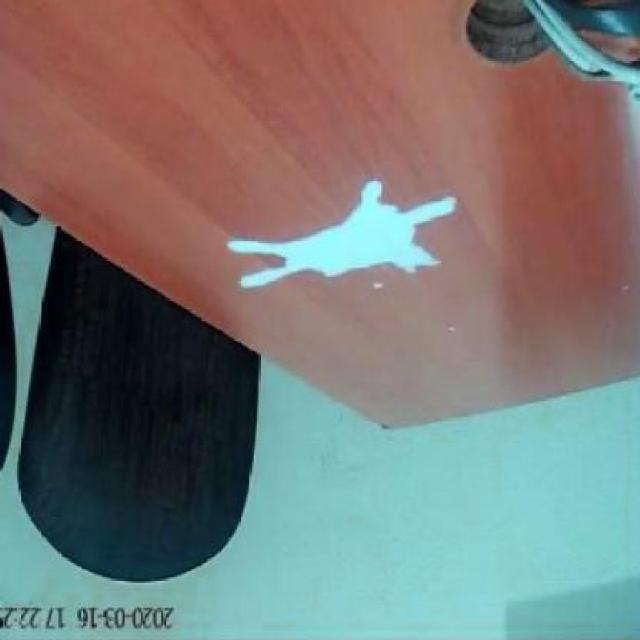spillage: (229, 177, 458, 288)
